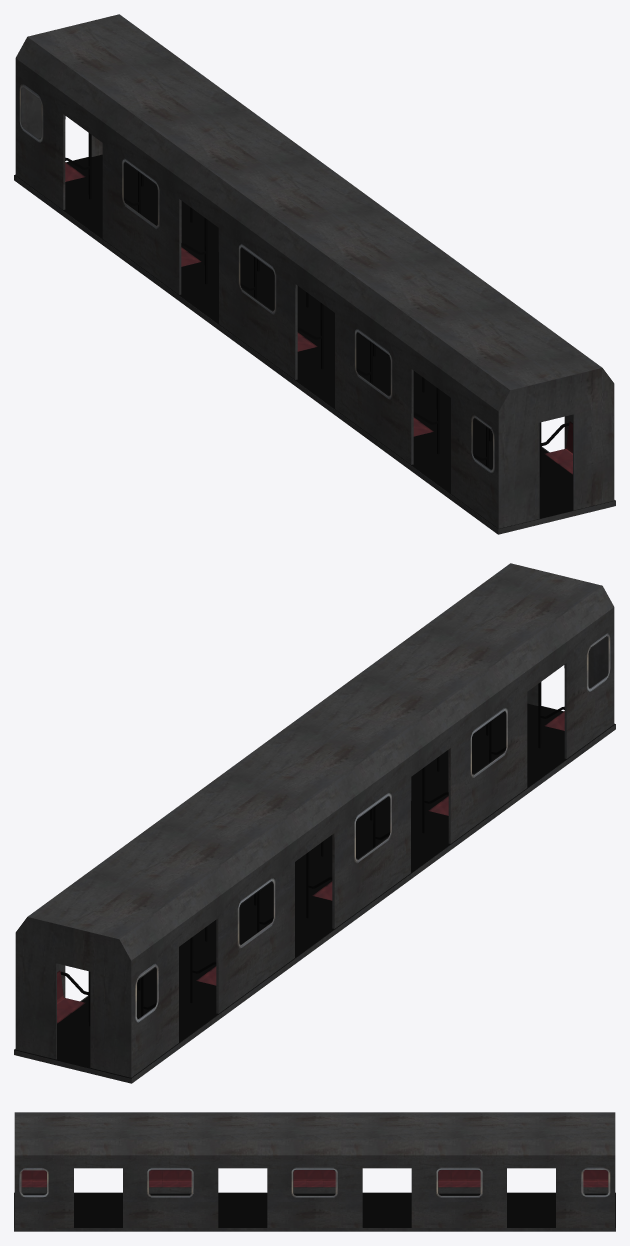
File: rusted_metro.glb
3 renders of one model, top to bottom at view 1: azimuth 30°, elevation 25°; view 2: azimuth 150°, elevation 25°; view 3: azimuth 270°, elevation 25°, orthographic. The views are drawn at different scales.
Visible parts, largest first — view 1: Metro_Body; view 2: Metro_Body; view 3: Metro_Body.
Part boxes in pixels (<box>): Metro_Body: <box>14,14,615,534</box>; Metro_Body: <box>14,563,615,1083</box>; Metro_Body: <box>14,1112,615,1231</box>.
Size of the model in its own units: 3.06 by 3.49 by 21.77.
2 materials, 1 textured.
